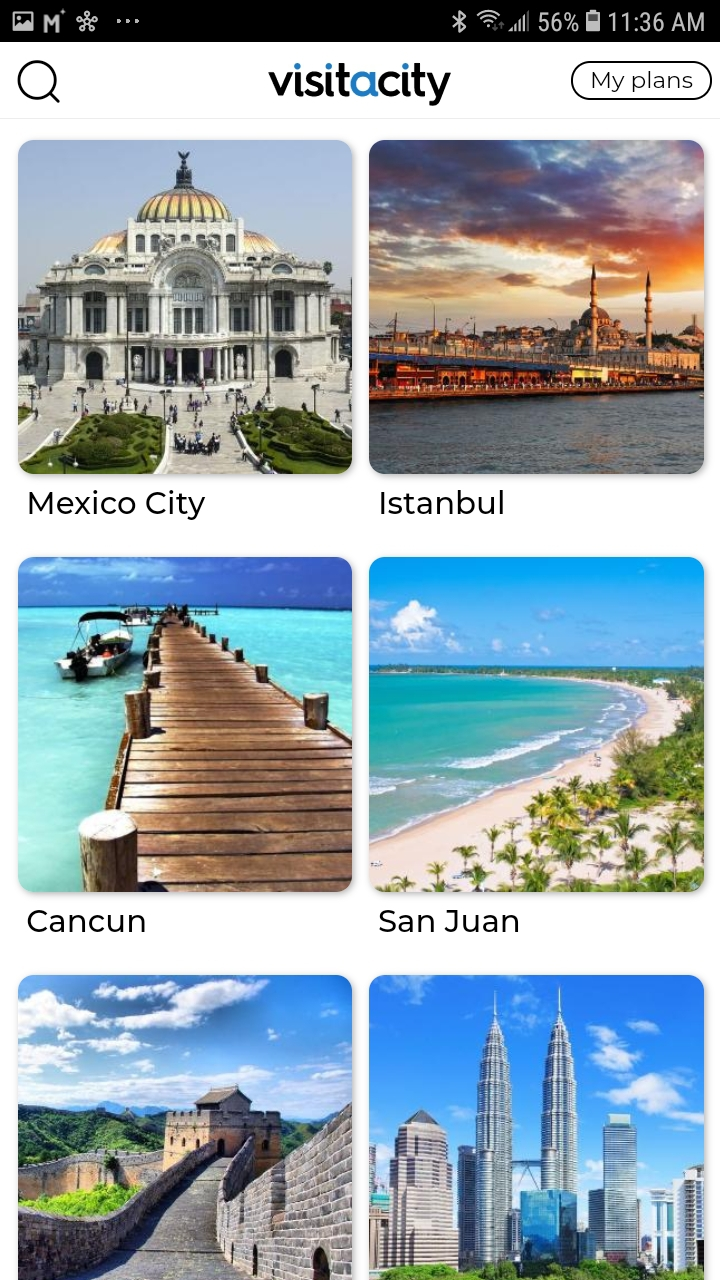Icon: (18, 60, 62, 105)
Image: (369, 557, 705, 893), (369, 140, 704, 475), (18, 140, 353, 475), (19, 557, 353, 893), (369, 974, 705, 1280), (18, 975, 353, 1280), (269, 63, 452, 107)
Text: (29, 490, 207, 521), (379, 909, 519, 933), (381, 490, 504, 515), (28, 909, 146, 933)
TextButton: (570, 61, 712, 101)
UpperTaskBar: (1, 1, 719, 43)
